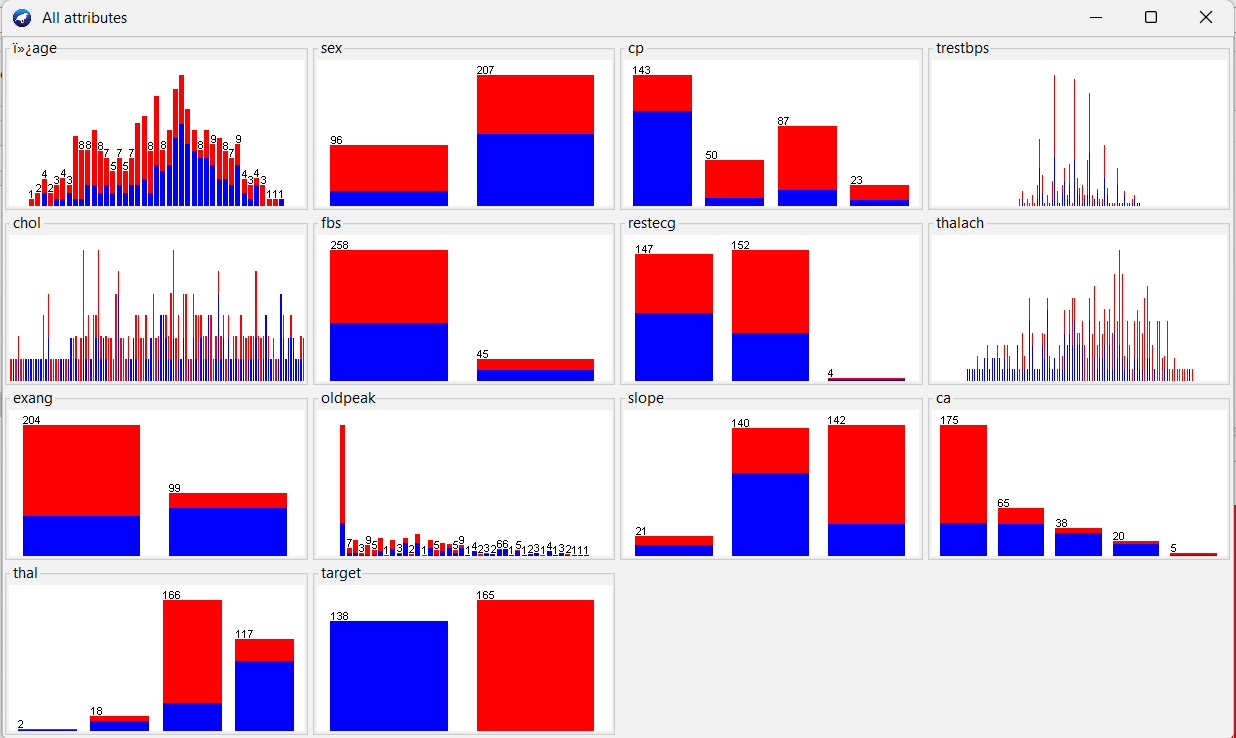

The page's visual inventory and layout, read from the dashboard file:
{"tool":"powerbi","page":{"name":"Page 2","canvas":[1280,720],"ordinal":1},"visuals":[{"type":"tableEx","box":[10,0,280,280],"z":0},{"type":"scriptVisual","fields":{"Values":["heart.age","heart.target","heart.chol","heart.thalach","heart.cp","heart.sex"]},"box":[88.8,38.1,732.7,590],"z":1}]}

Visuals, with their boxes on the page's 1280x720 design canvas (x1, y1, x2, y2). These are canvas units, not pixel positions in the 1236x738 screenshot, which may show the page scaled, cropped or inside an application window:
tableEx: {"left": 10, "top": 0, "right": 290, "bottom": 280}
scriptVisual - heart.age x heart.target: {"left": 89, "top": 38, "right": 822, "bottom": 628}
